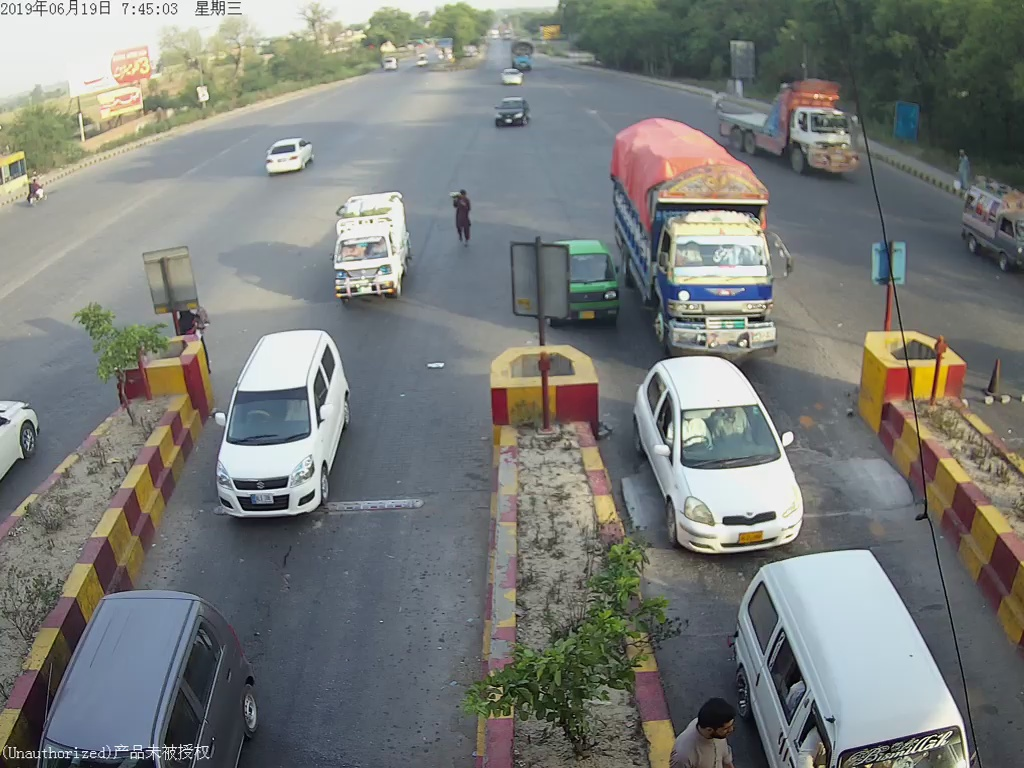Cat-1: (738, 561, 973, 758), (636, 359, 814, 551), (223, 336, 346, 532), (326, 193, 409, 297)
Cat-4: (617, 131, 792, 358)
